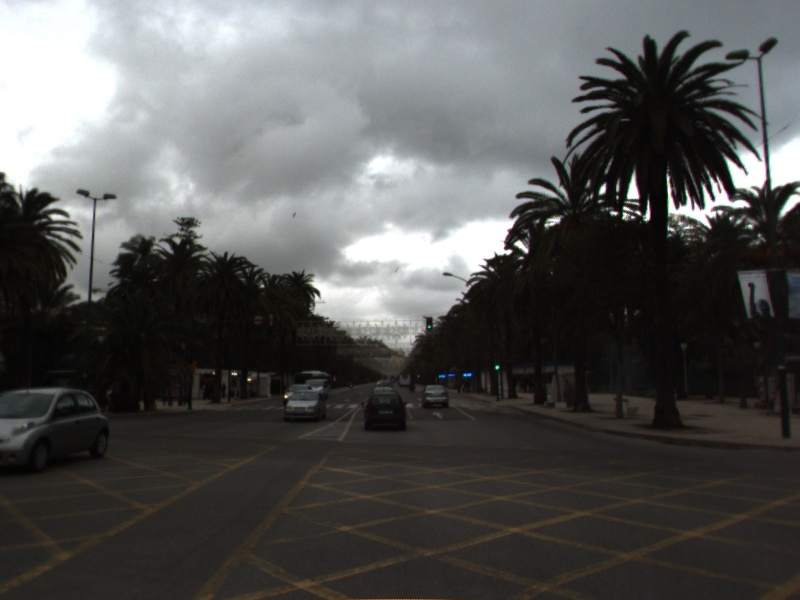STRAIGHT: (429, 409, 446, 421)
